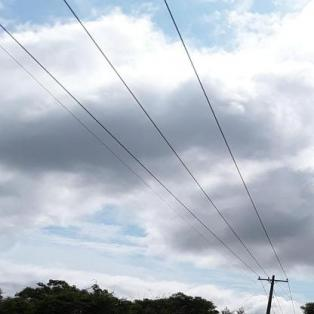Poste: (259, 275, 277, 314)
